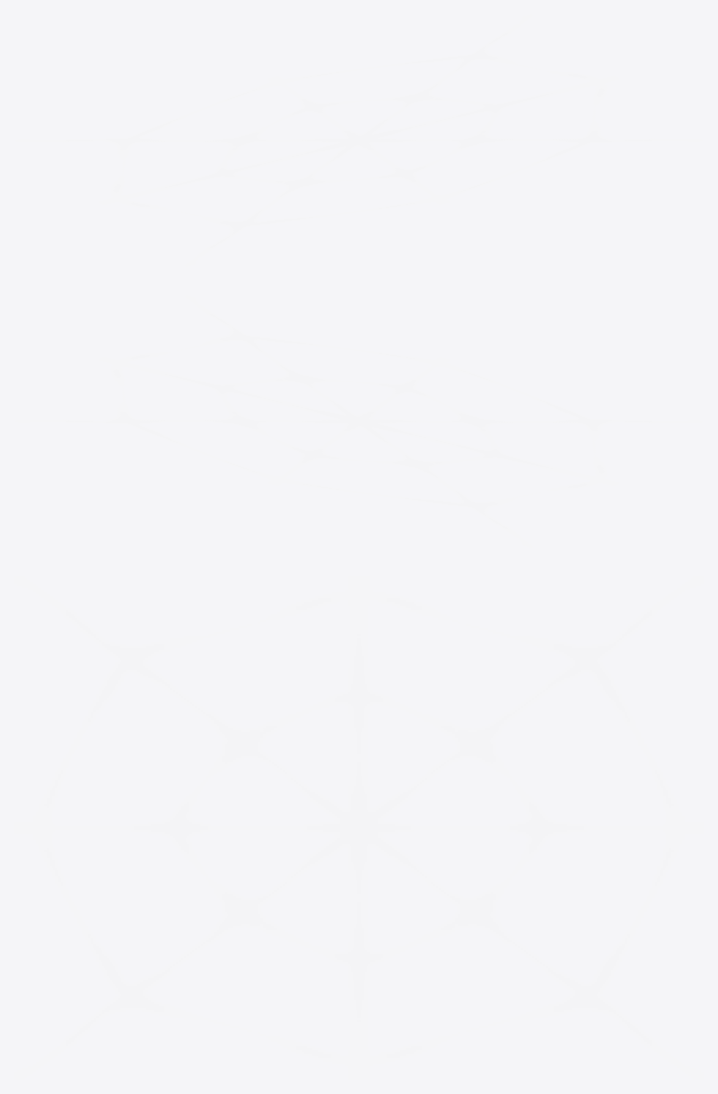
3 views of the same model, one above another, from view 1: azimuth 30°, elevation 25°; view 2: azimuth 150°, elevation 25°; view 3: azimuth 270°, elevation 25° (orthographic). The views are drawn at different scales.
Bounding box in the file's own units: 14.25 × 0 × 8.25.
1 material, 1 textured.
